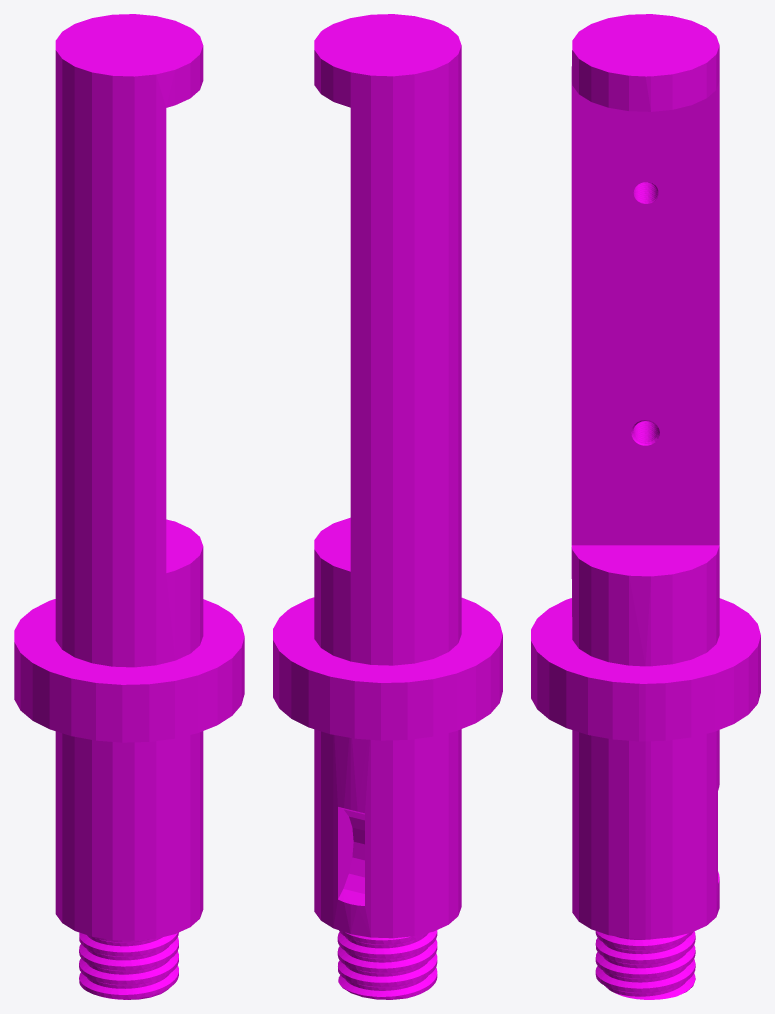
File: valve_shaft.glb
3 views of the same model, side by side, from view 1: azimuth 30°, elevation 25°; view 2: azimuth 150°, elevation 25°; view 3: azimuth 270°, elevation 25° (orthographic).
Visible parts, largest first — view 1: Node1; view 2: Node1; view 3: Node1.
Part boxes in pixels (x1,y1,x2,y2): Node1: [14, 14, 244, 999]; Node1: [273, 14, 502, 999]; Node1: [531, 14, 760, 999].
Size of the model in its own units: 22.13 by 99.01 by 22.08.
